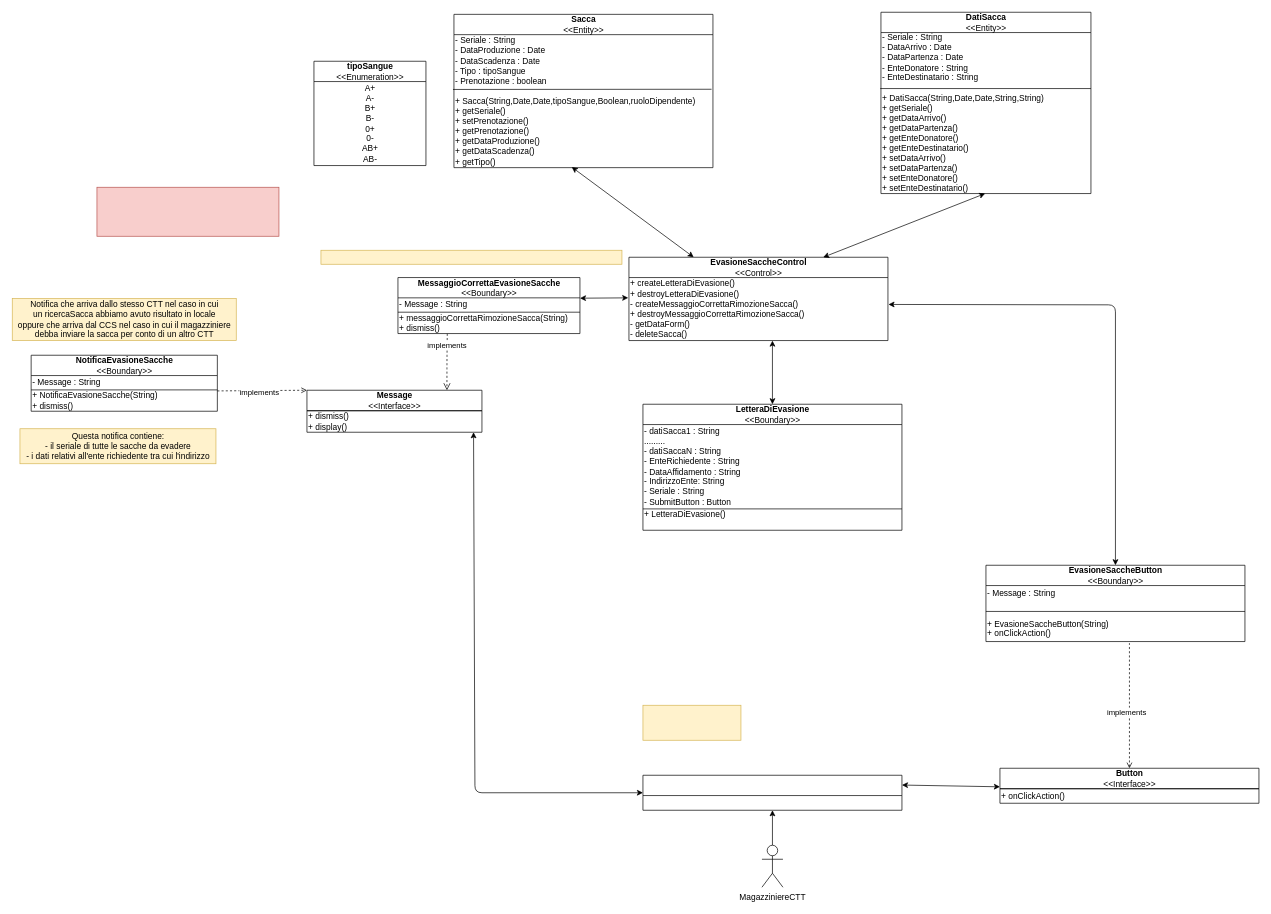
Some shapes in this 1271 by 914 pixel diagram are drawn without their labels. Each missing label, with the centre of its shape:
Class diagrams relativi allo use case EvasioneSacche: (x=187, y=211)
Lato Magazziniere CTT: (x=691, y=722)
Messaggio di Acknowledgment al magazziniere di corretta evasione dell'ordine: (x=471, y=257)
TerminaleMagazziniereCTT <<Boundary>>: (x=772, y=792)
